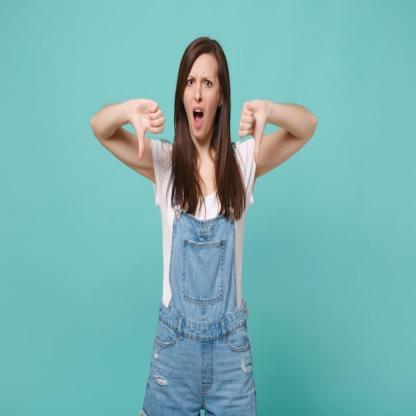thumb_down: (129, 95, 166, 162), (238, 97, 272, 168)
